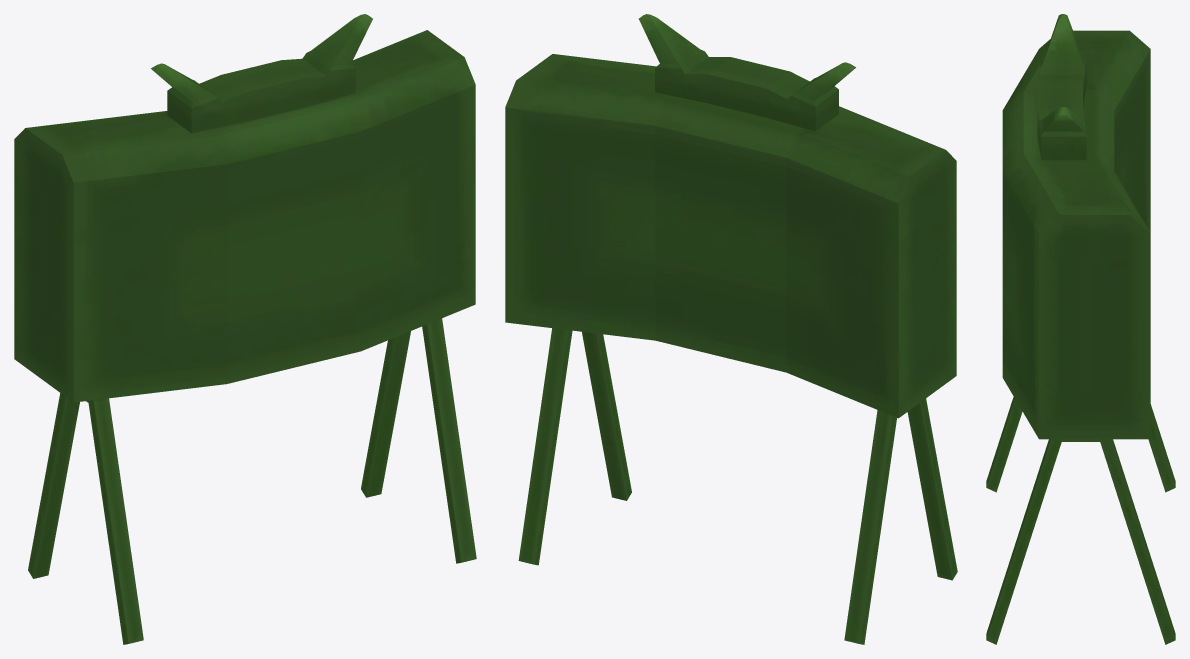
File: claymore_explosive.glb
The picture shows the model from 3 angles, left to right: view 1: azimuth 30°, elevation 25°; view 2: azimuth 150°, elevation 25°; view 3: azimuth 270°, elevation 25°; orthographic projection. The views are drawn at different scales.
Visible parts, largest first — view 1: Object_2; view 2: Object_2; view 3: Object_2.
Part boxes in pixels (left/top/right/bottom): Object_2: left=14, top=14, right=476, bottom=644; Object_2: left=505, top=14, right=957, bottom=644; Object_2: left=986, top=14, right=1175, bottom=644.
Size of the model in its own units: 200 by 255 by 86.82.
Materials: 1 (1 with a texture image).
